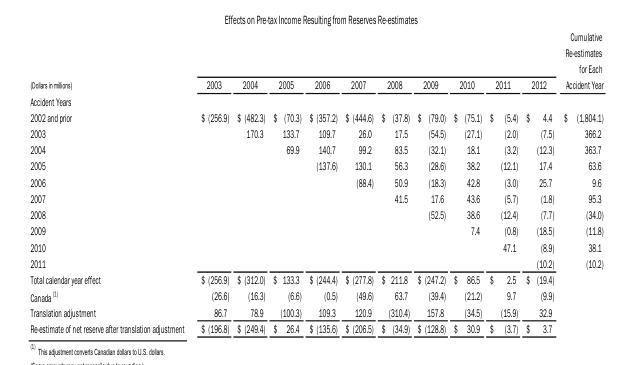table: (29, 29, 602, 334)
table column: (29, 29, 191, 334), (558, 29, 602, 334), (191, 29, 232, 334), (448, 29, 485, 334), (521, 29, 558, 334), (232, 29, 268, 334), (268, 29, 304, 334), (304, 29, 340, 334), (340, 29, 376, 334), (376, 29, 412, 334), (412, 29, 448, 334), (485, 29, 521, 334)
table column header: (29, 29, 602, 92)
table projected row header: (29, 92, 602, 108)
table row: (29, 29, 602, 92), (29, 124, 602, 141), (29, 189, 602, 206), (29, 254, 602, 271), (29, 287, 602, 304), (29, 92, 602, 108), (29, 108, 602, 124), (29, 141, 602, 157), (29, 157, 602, 173), (29, 173, 602, 189), (29, 206, 602, 222), (29, 222, 602, 238), (29, 238, 602, 254), (29, 271, 602, 287), (29, 304, 602, 319), (29, 319, 602, 334)
